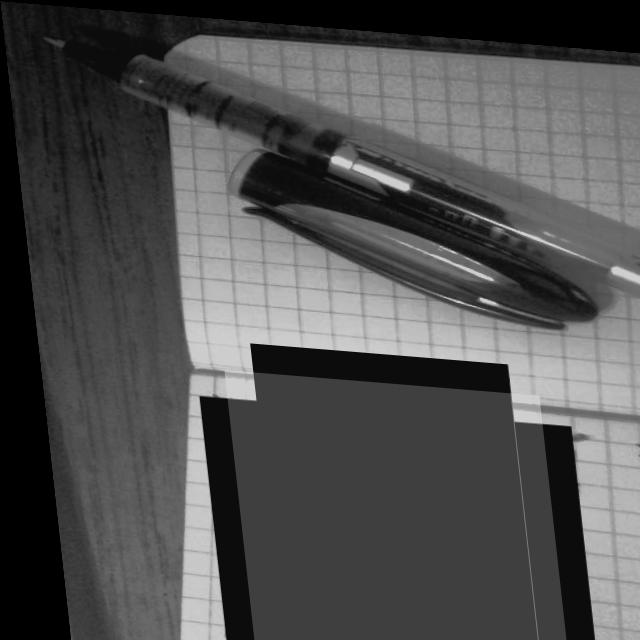qr_code: (216, 366, 556, 640)
